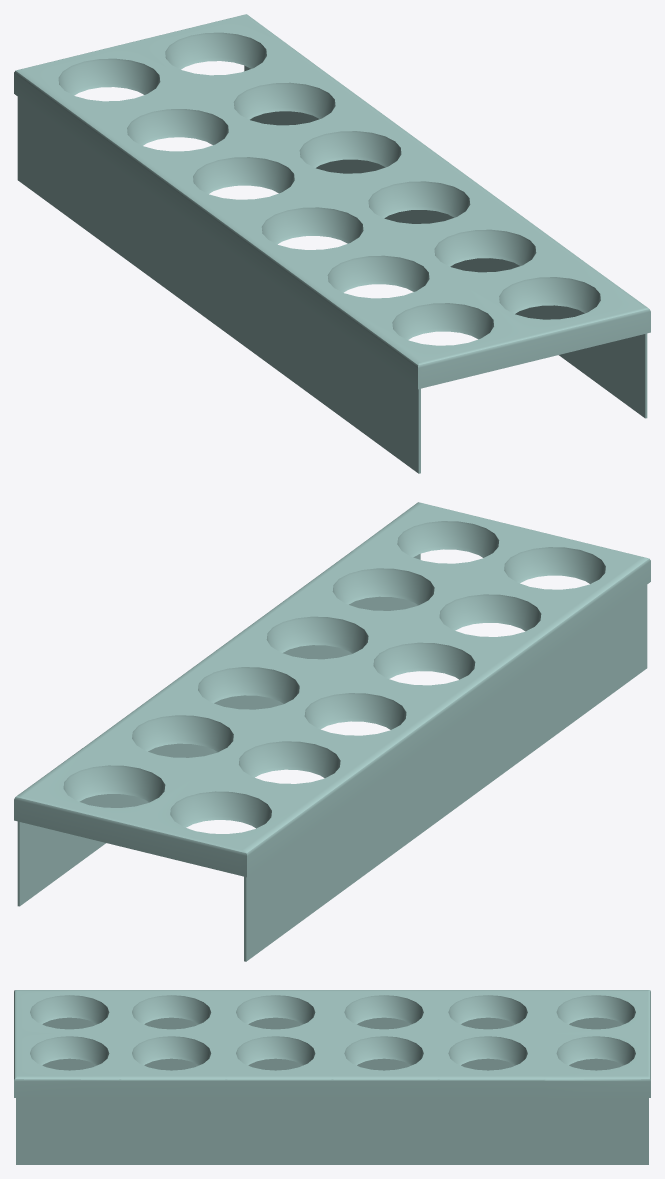
The model's file is EggTray01.fbx.
3 renders of one model, top to bottom at view 1: azimuth 30°, elevation 25°; view 2: azimuth 150°, elevation 25°; view 3: azimuth 270°, elevation 25°, orthographic. The views are drawn at different scales.
Visible parts, largest first — view 1: EggTray1; view 2: EggTray1; view 3: EggTray1.
Boxes of the visible parts, bbox=[...] form: EggTray1: bbox=[14, 14, 650, 473]; EggTray1: bbox=[14, 502, 650, 961]; EggTray1: bbox=[14, 990, 650, 1164].
Bounding box in the file's own units: 10 × 4.53 × 30.
